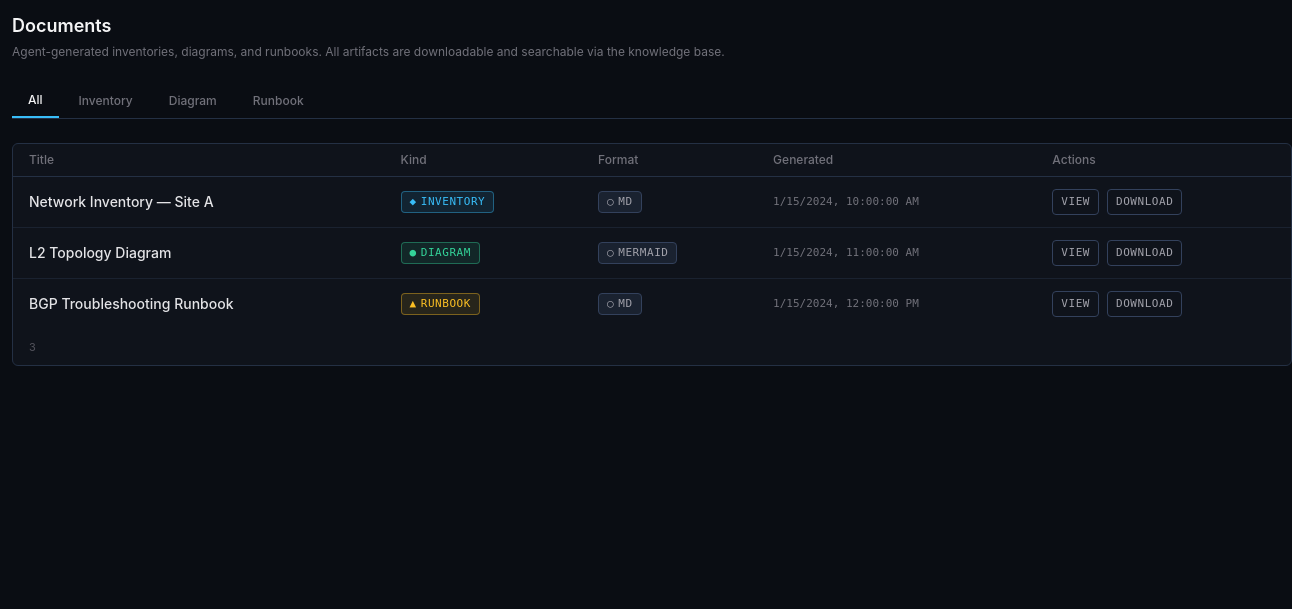
Test: DocumentsPage — Mermaid render panel › panel can be closed by clicking the Close button
The image size is (1292, 609).
Click the button "View" in the row of "L2 Topology Diagram" at (1076, 253), box x1=1052 y1=240 x2=1099 y2=266
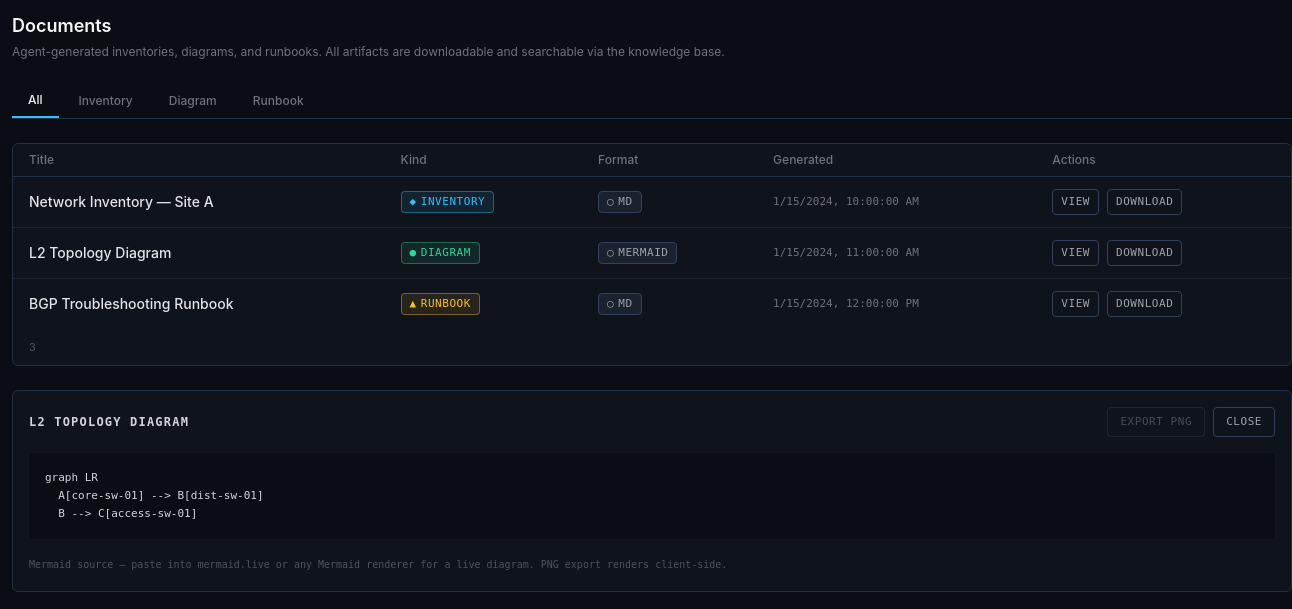
Expected: the element with test id "mermaid-panel" is shown, x1=12 y1=390 x2=1291 y2=592
Click the button with test id "doc-panel-close" at (1244, 422), box x1=1213 y1=407 x2=1275 y2=437
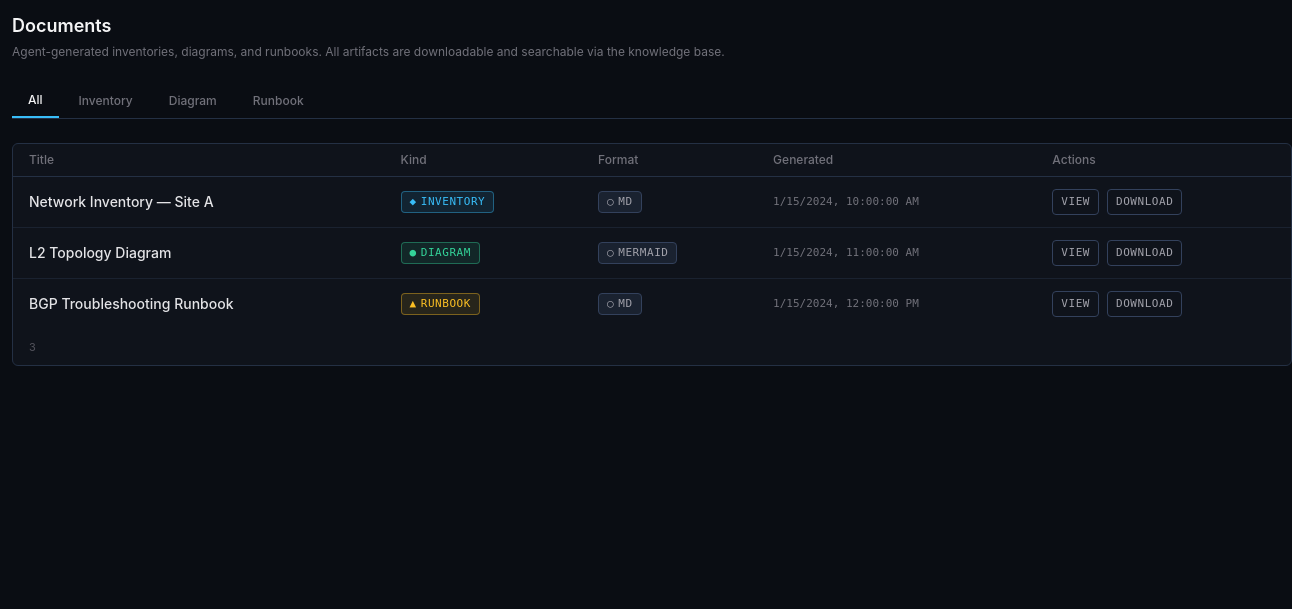
Expected: the element with test id "mermaid-panel" is gone
